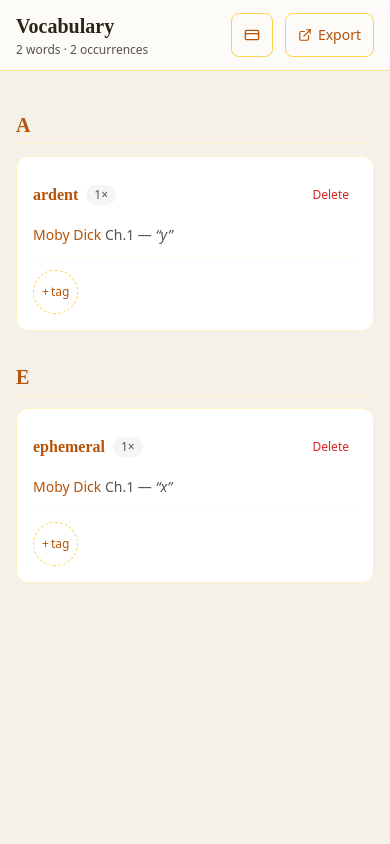
Test case: rapid delete: backend failure surfaced as visible error feedback
expect the button "ephemeral" is shown: met, box [33,425,105,469]
// Delete word A
Click the button with test id "delete-ephemeral" at [331, 447], box [304,425,357,469]
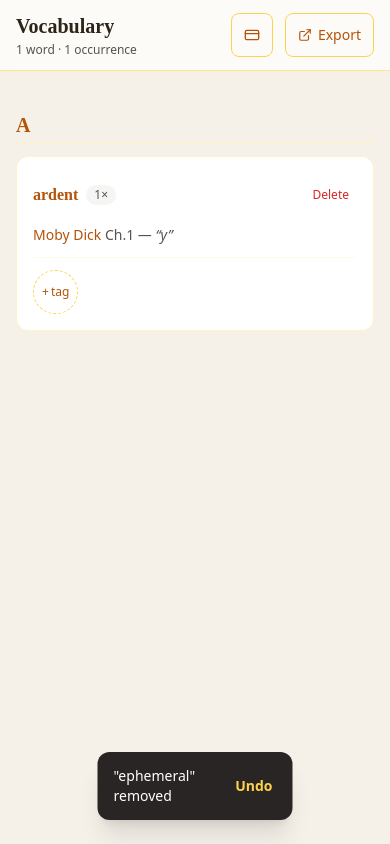
// Delete word B while toast is still showing — this commits word A to the backend
Click the button with test id "delete-ardent" at [331, 195], box [304,173,357,217]
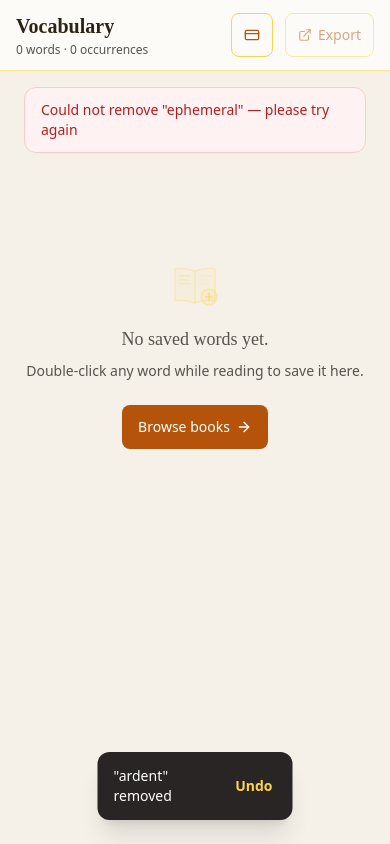
expect the text "Could not remove \"ephemeral\" — please try again" is shown: met, box [24,87,366,153]
